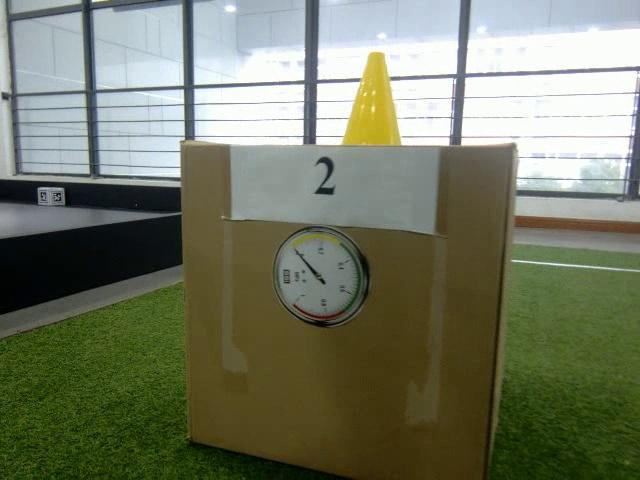2: (313, 154, 338, 199)
Dashboard: (271, 226, 372, 330)
ssi: (280, 268, 292, 286)
yellow_barrel: (338, 48, 405, 148)
